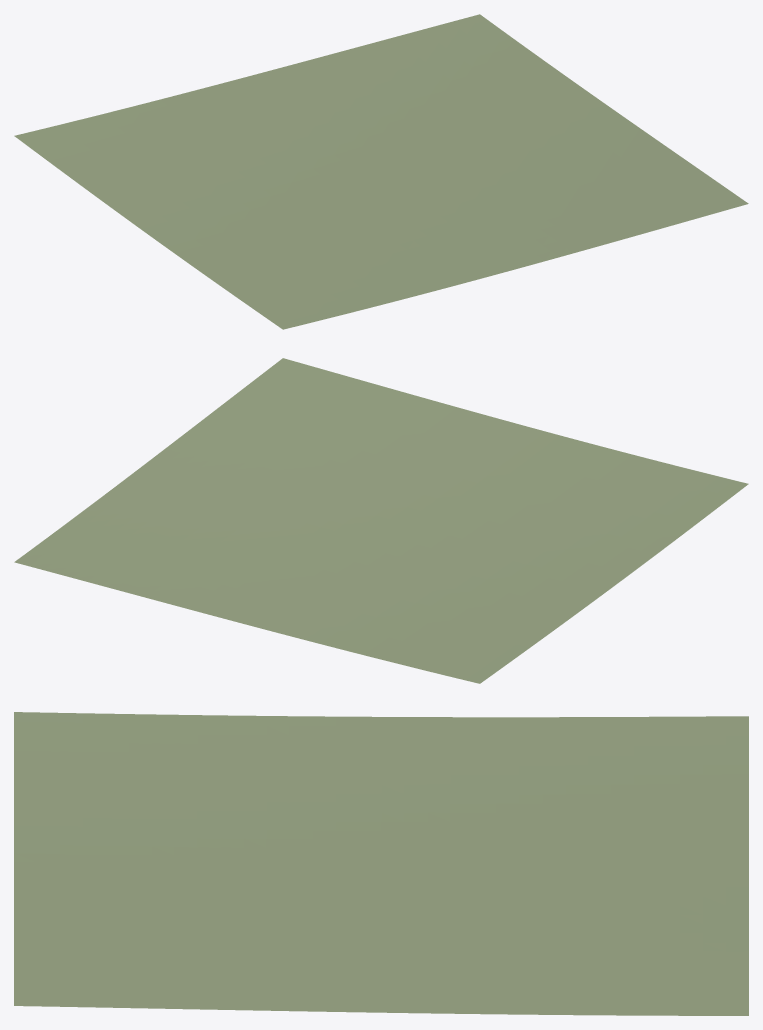
The model's file is expanse-19-7.glb.
The picture shows the model from 3 angles, top to bottom: view 1: azimuth 30°, elevation 25°; view 2: azimuth 150°, elevation 25°; view 3: azimuth 270°, elevation 25°; orthographic projection. The views are drawn at different scales.
Visible parts, largest first — view 1: expanse-19-7; view 2: expanse-19-7; view 3: expanse-19-7.
Boxes of the visible parts, x1,y1,x2,y2 form: expanse-19-7: [14, 14, 748, 329]; expanse-19-7: [14, 358, 748, 683]; expanse-19-7: [14, 712, 748, 1015].
Size of the model in its own units: 256 by 8.43 by 256.
